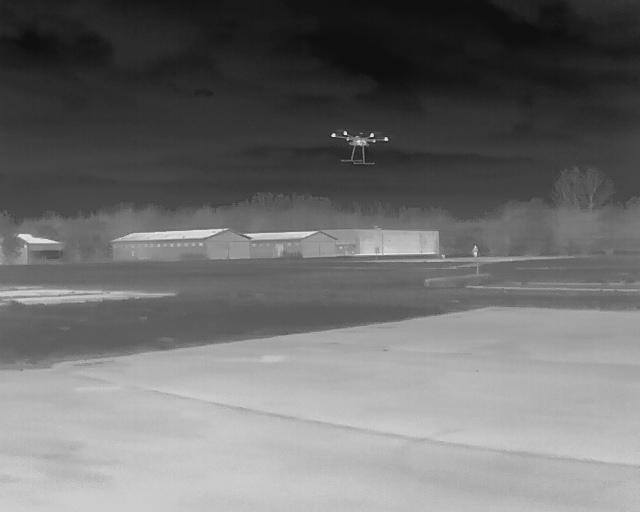drone: (329, 125, 390, 168)
